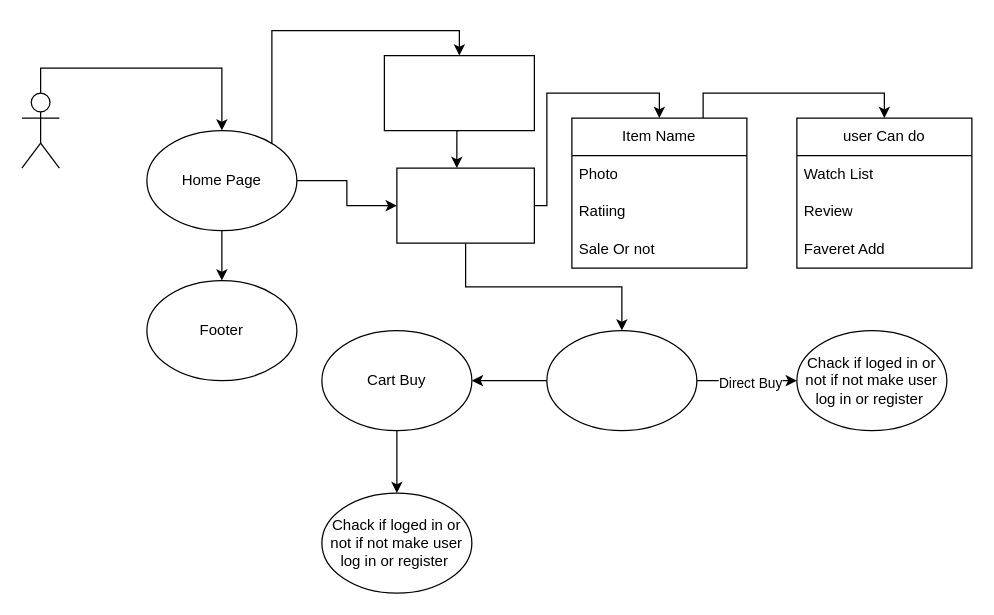
Image size: 994x615. Some labels were removed from this diagram. Here are the shapes that lost their labels. From the top down, the centre of each, then its label:
At (458,92): "Search bar".
At (40,130): "User".
At (465,205): "Items with =>".
At (621,380): "Add To cart / Direct buy".
